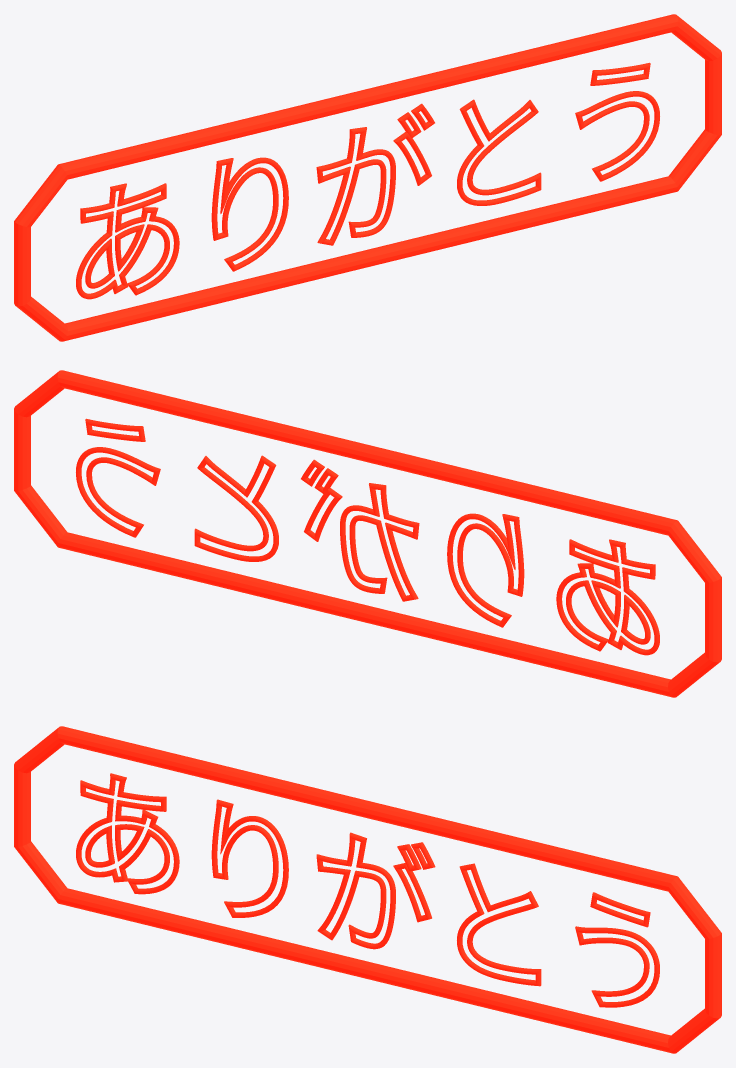
Rendered from Sign2.fbx.
3 renders of one model, top to bottom at view 1: azimuth 30°, elevation 25°; view 2: azimuth 150°, elevation 25°; view 3: azimuth 330°, elevation 25°, orthographic.
Parts seen in each view (by area): view 1: Text.001; view 2: Text.001; view 3: Text.001.
Boxes of the visible parts, <box> form: Text.001: <box>14,14,721,341</box>; Text.001: <box>14,370,721,697</box>; Text.001: <box>14,726,721,1053</box>.
Size of the model in its own units: 190 by 45.44 by 4.
